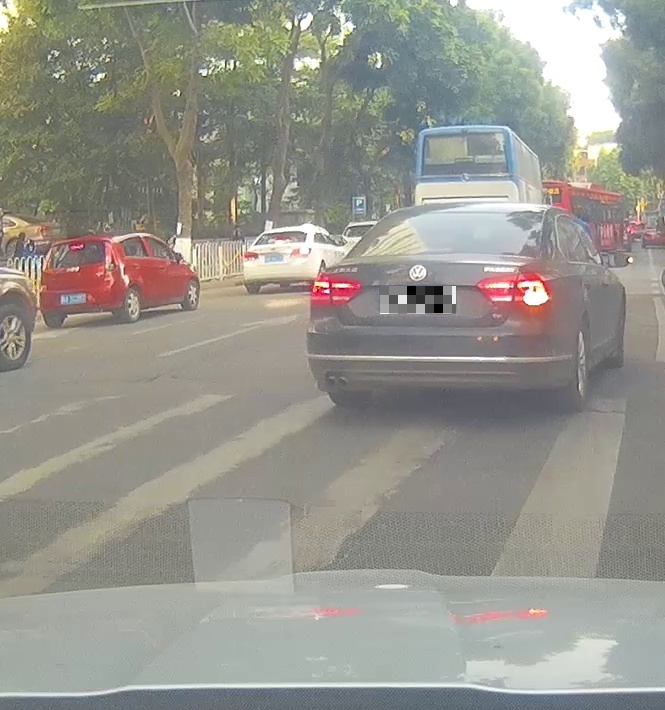L_light: (41, 261, 48, 272)
R_light: (476, 270, 549, 309), (105, 255, 117, 271)
T_light: (310, 271, 362, 305), (68, 244, 85, 250)
day-brake: (38, 234, 121, 327)
day-no: (421, 247, 453, 253)
day-right: (307, 202, 550, 404)
plate_1: (380, 286, 456, 314)
